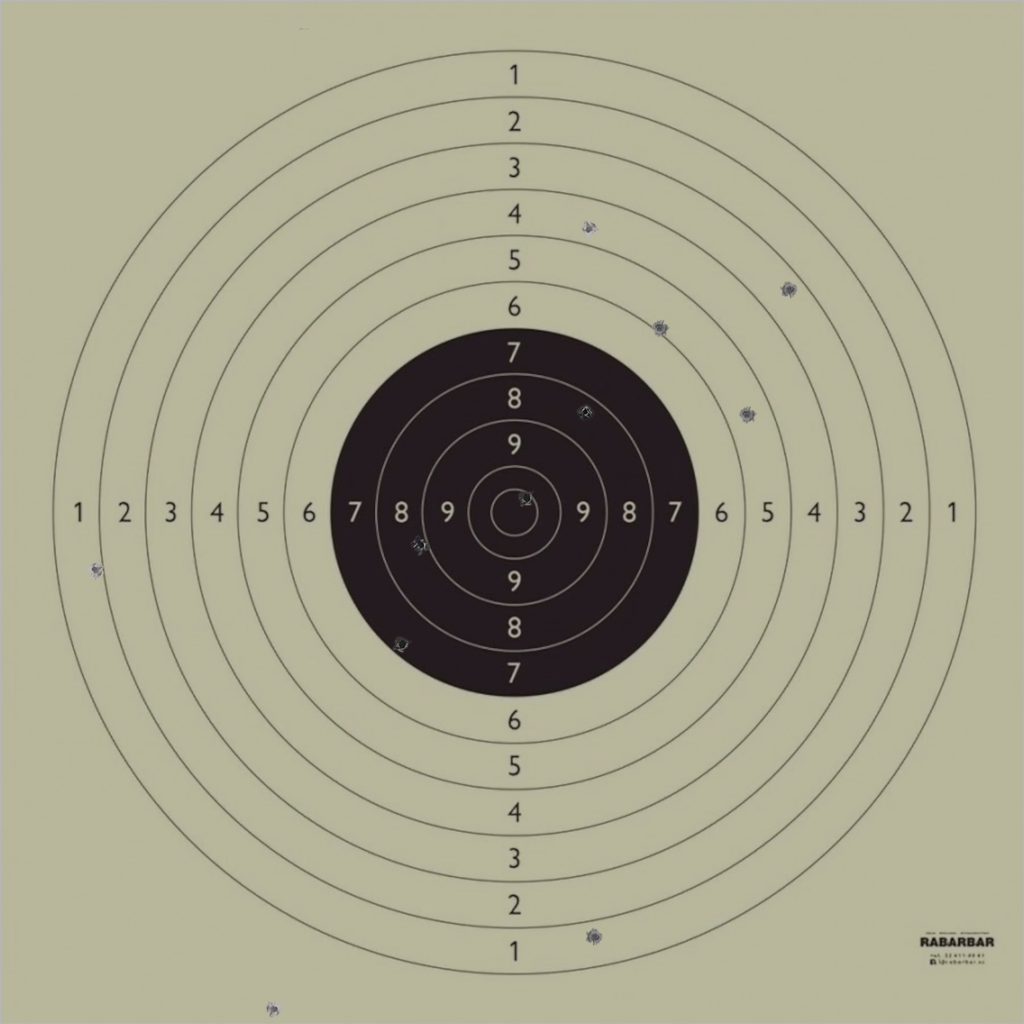0 punktow: (265, 1000, 283, 1019)
1 punkt: (586, 928, 604, 946)
10 punktow: (518, 489, 536, 507)
2 punkty: (86, 561, 105, 579)
3 punkty: (780, 281, 799, 299)
4 punkty: (580, 220, 598, 238)
5 punktow: (738, 405, 756, 424)
6 punktow: (651, 319, 669, 337)
7 punktow: (393, 635, 411, 654)
8 punktow: (576, 402, 595, 421)
9 punktow: (411, 535, 430, 554)
